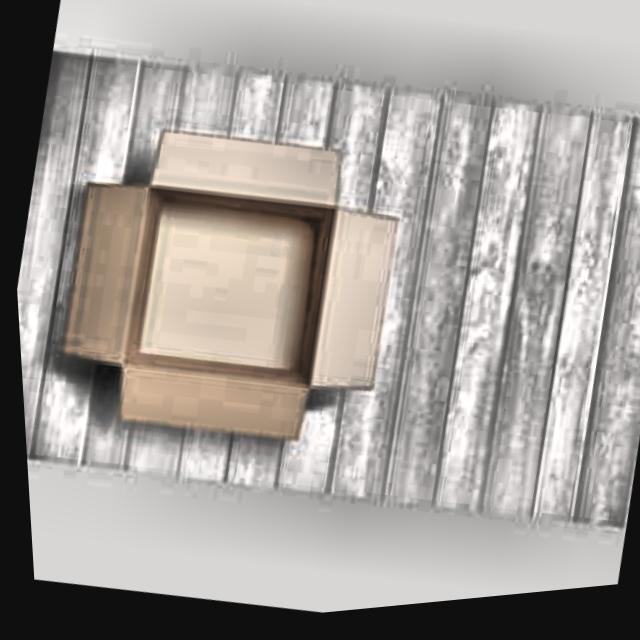Cardbox: (0, 0, 536, 547)
